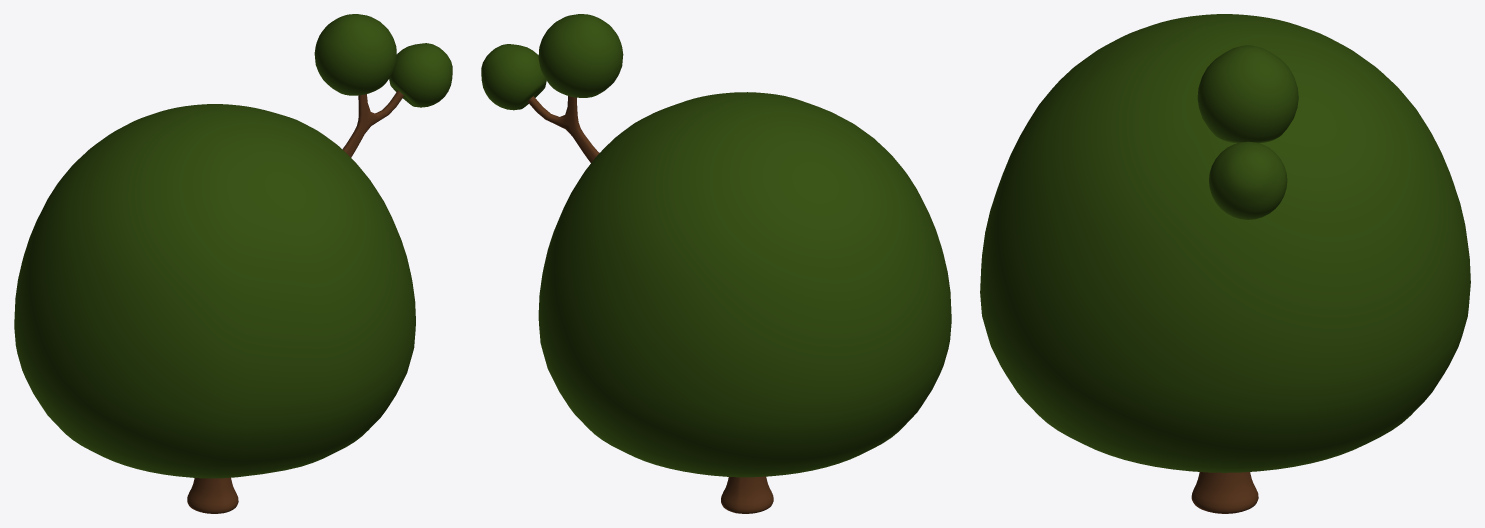
File: bush final.fbx
3 views of the same model, side by side, from view 1: azimuth 30°, elevation 25°; view 2: azimuth 150°, elevation 25°; view 3: azimuth 270°, elevation 25° (orthographic). The views are drawn at different scales.
Parts seen in each view (by area): view 1: Sphere, Sphere.002, Sphere.003, Sphere.004, Sphere.001; view 2: Sphere, Sphere.002, Sphere.003, Sphere.004, Sphere.001; view 3: Sphere, Sphere.002, Sphere.003, Sphere.004.
Boxes of the visible parts, box(x1,y1,x2,y2) form: Sphere: box(14, 104, 415, 478); Sphere.002: box(314, 14, 396, 95); Sphere.003: box(389, 43, 452, 107); Sphere.004: box(187, 477, 238, 513); Sphere.001: box(342, 90, 403, 157); Sphere: box(538, 92, 951, 477); Sphere.002: box(538, 14, 623, 97); Sphere.003: box(481, 44, 546, 110); Sphere.004: box(721, 476, 773, 513); Sphere.001: box(527, 96, 599, 162); Sphere: box(980, 14, 1470, 472); Sphere.002: box(1197, 45, 1298, 143); Sphere.003: box(1209, 141, 1287, 219); Sphere.004: box(1191, 472, 1258, 513).
Size of the model in its own units: 80.13 by 81.37 by 66.57.
